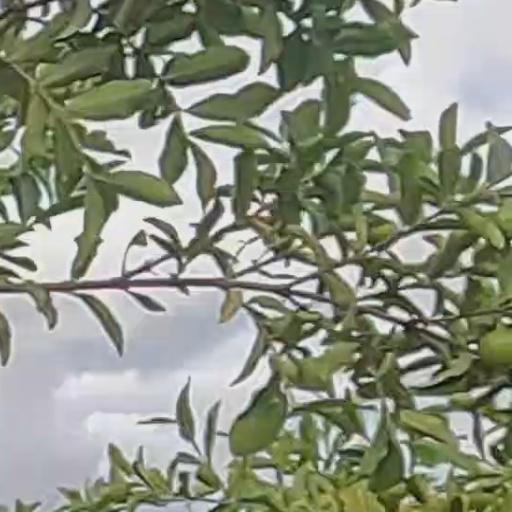acerola: (479, 326, 511, 369)
